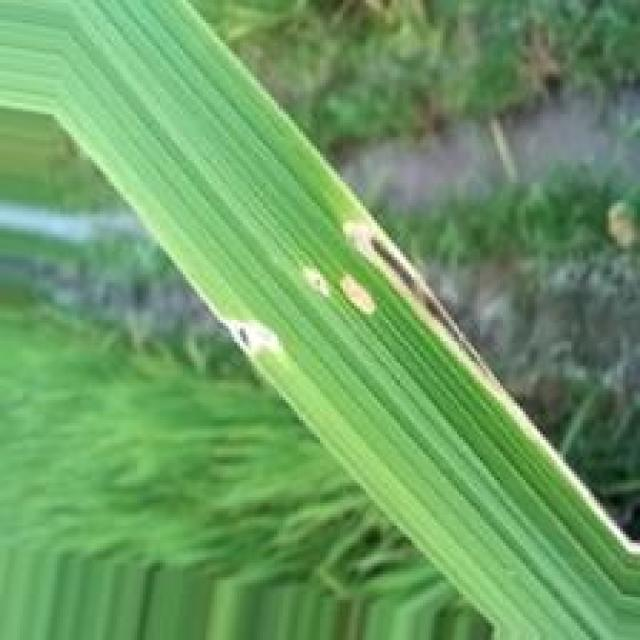Rice_Hispa: (341, 220, 635, 553), (222, 319, 284, 353), (342, 277, 374, 312), (304, 268, 326, 296)
